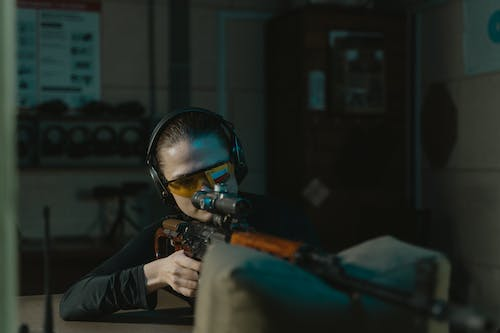gun: (152, 180, 500, 333)
